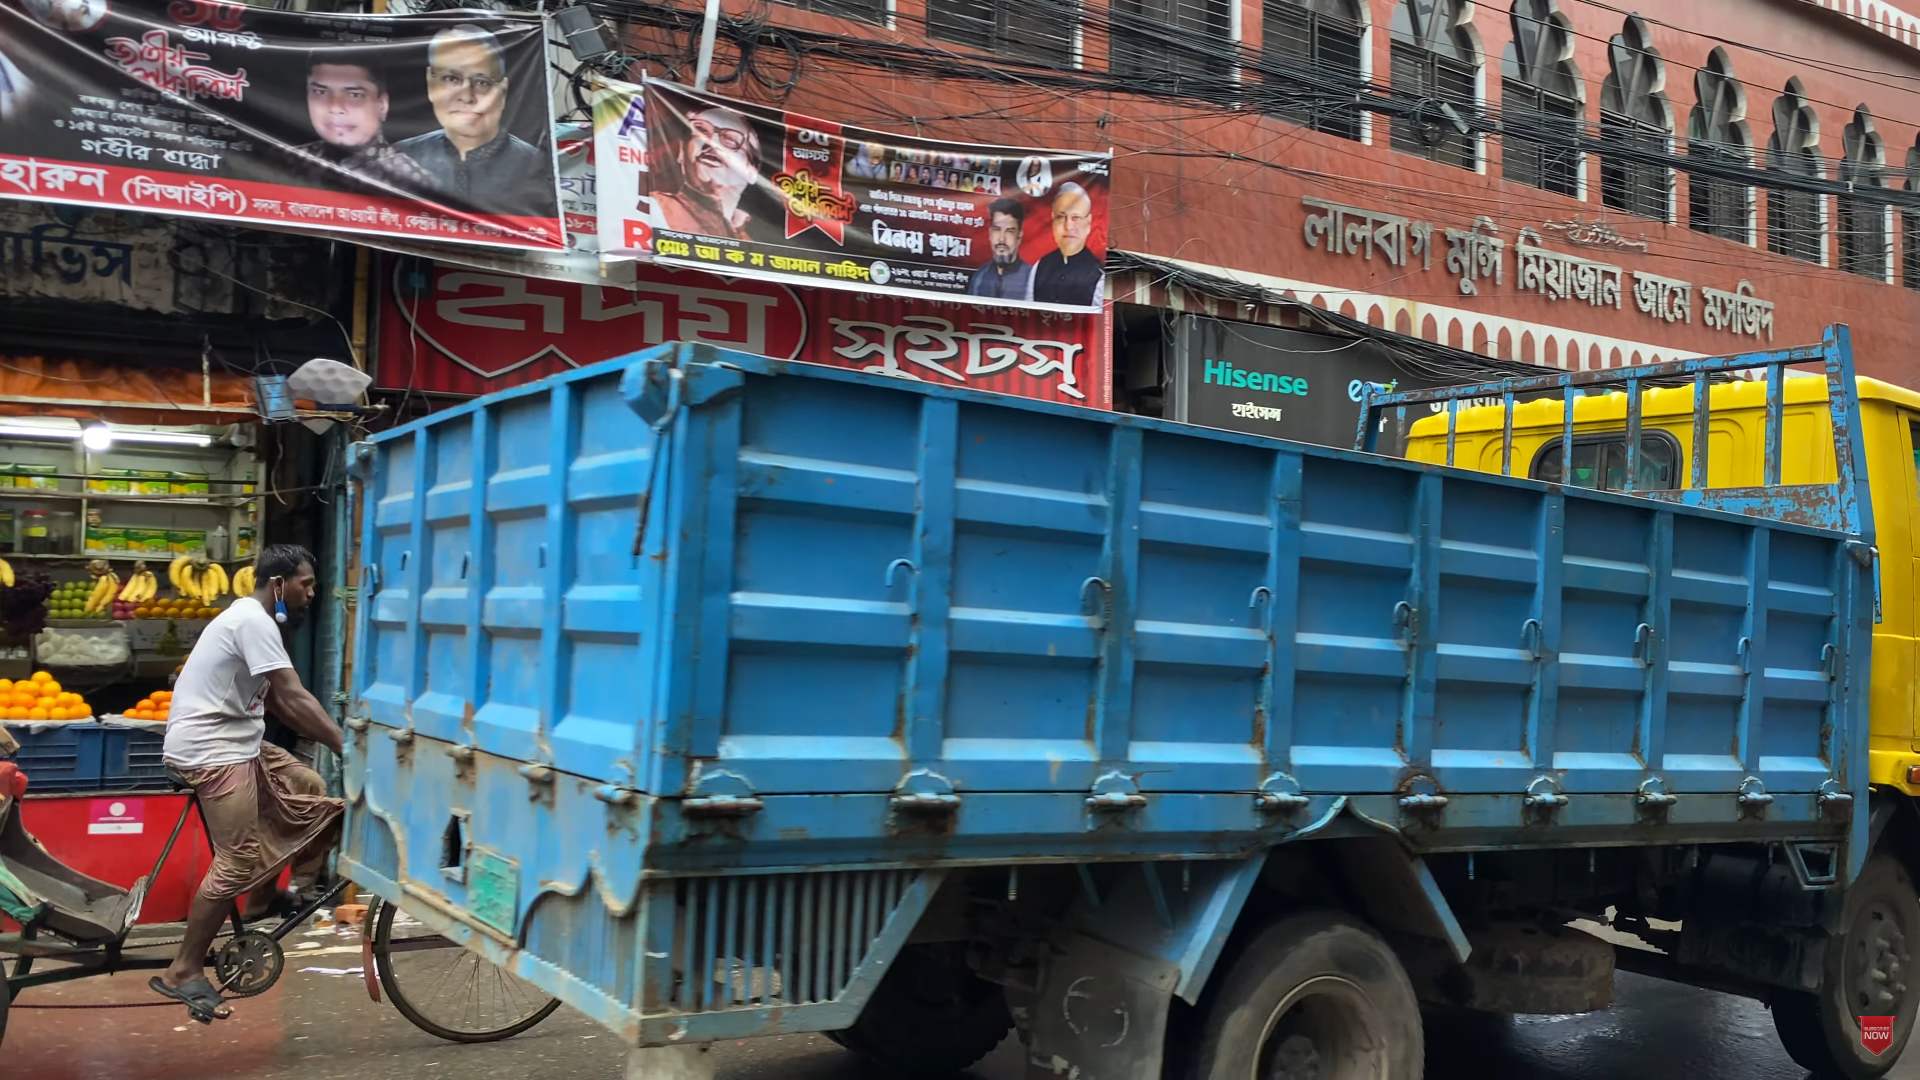Rickshaw: (11, 488, 324, 1048)
Truck: (411, 324, 1909, 1068)
